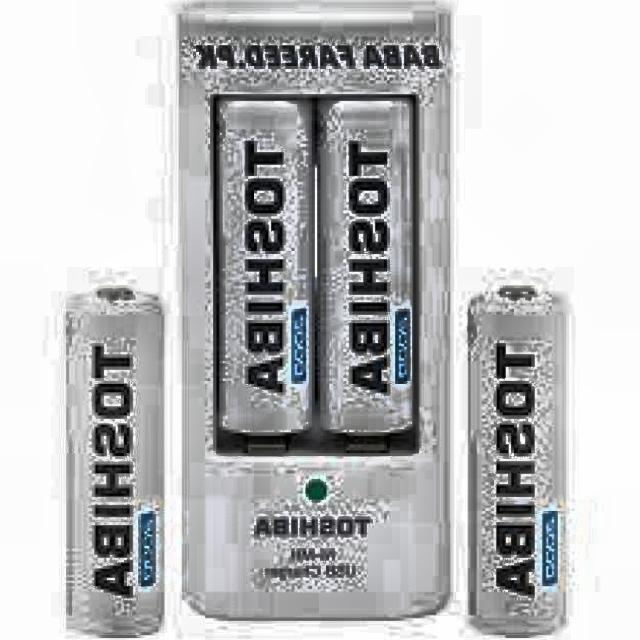Non-Valuable Waste - Batteries: (69, 288, 164, 635), (471, 286, 566, 632), (319, 104, 417, 438)
